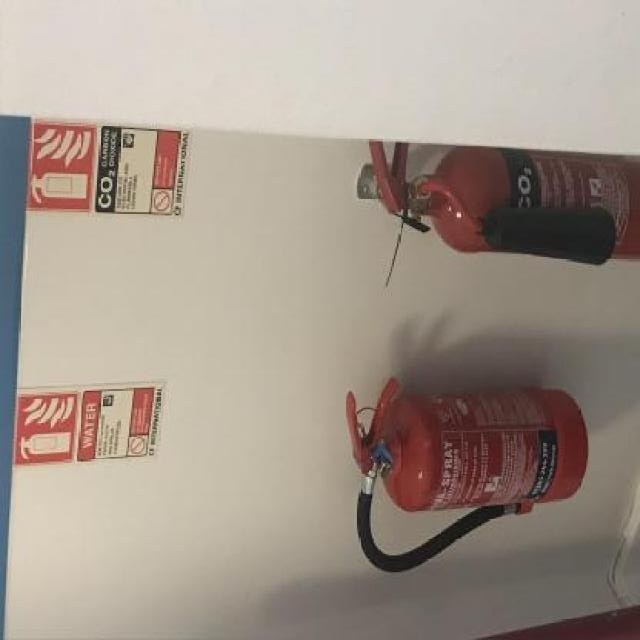fire extinguisher: (346, 380, 588, 571), (367, 137, 640, 264)
